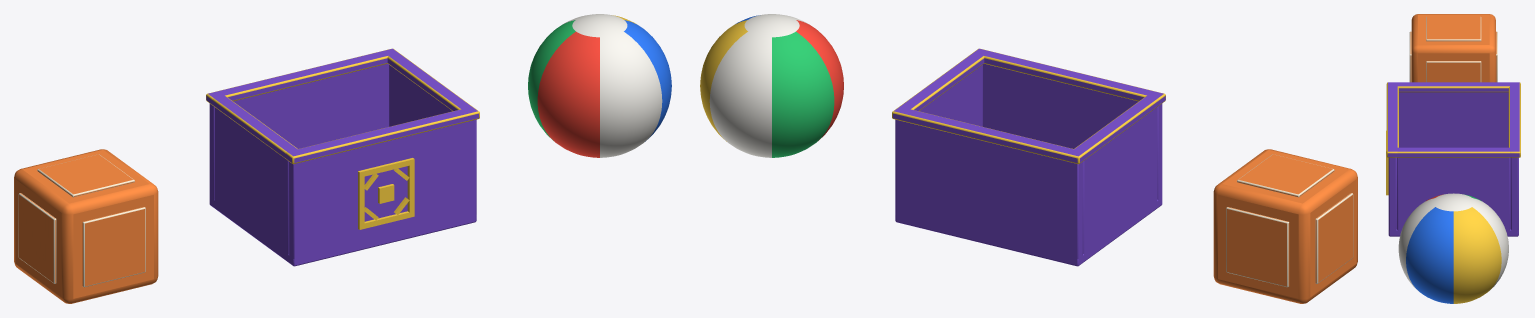
File: ShrinkBox.glb
3 views of the same model, side by side, from view 1: azimuth 30°, elevation 25°; view 2: azimuth 150°, elevation 25°; view 3: azimuth 270°, elevation 25° (orthographic). The views are drawn at different scales.
Parts seen in each view (by area): view 1: ShrinkBox, ToyBlock, BeachBall; view 2: ShrinkBox, ToyBlock, BeachBall; view 3: ShrinkBox, BeachBall, ToyBlock.
Part boxes in pixels (bbox=[...]): ShrinkBox: bbox=[206, 48, 479, 266]; ToyBlock: bbox=[14, 149, 158, 303]; BeachBall: bbox=[528, 14, 671, 157]; ShrinkBox: bbox=[892, 48, 1165, 266]; ToyBlock: bbox=[1213, 149, 1357, 303]; BeachBall: bbox=[700, 14, 843, 157]; ShrinkBox: bbox=[1386, 82, 1520, 236]; BeachBall: bbox=[1398, 193, 1508, 303]; ToyBlock: bbox=[1409, 14, 1497, 82].
Size of the model in its own units: 1.71 by 0.346 by 0.414.
